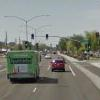Bus: (5, 43, 40, 88)
